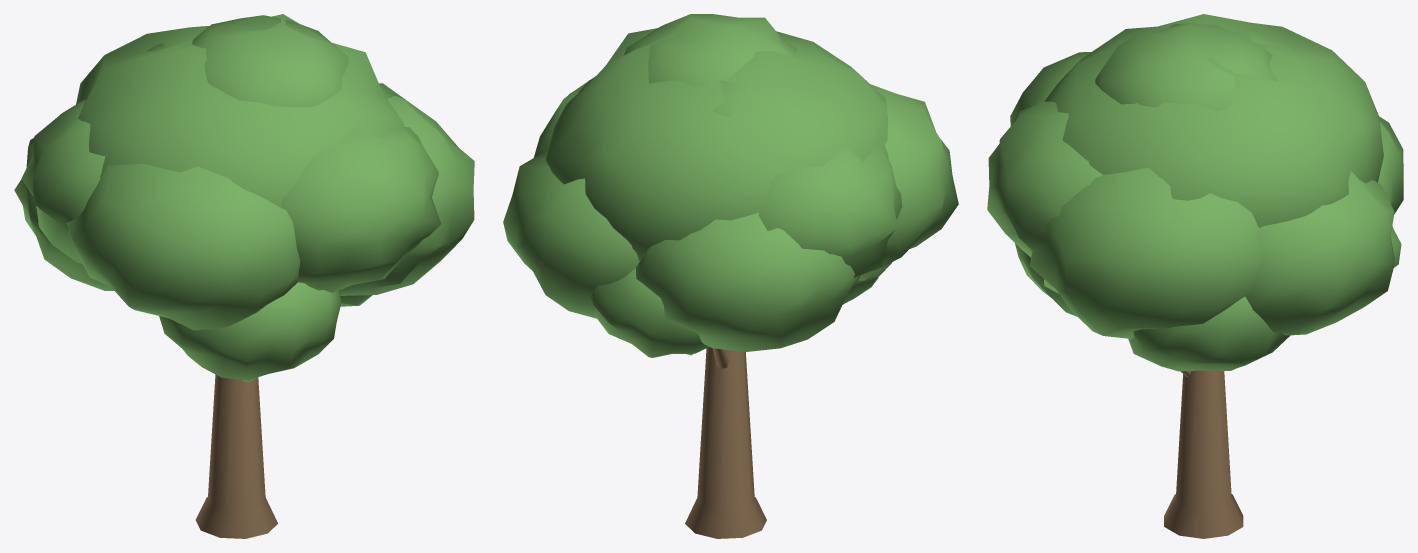
File: tree-oak.glb
3 renders of one model, left to right at view 1: azimuth 30°, elevation 25°; view 2: azimuth 150°, elevation 25°; view 3: azimuth 270°, elevation 25°, orthographic.
Parts seen in each view (by area): view 1: Tree; view 2: Tree; view 3: Tree.
Part boxes in pixels (x1,y1,x2,y2): Tree: [14, 14, 474, 538]; Tree: [503, 14, 958, 538]; Tree: [987, 14, 1403, 538].
Size of the model in its own units: 3.17 by 3.92 by 2.99.
